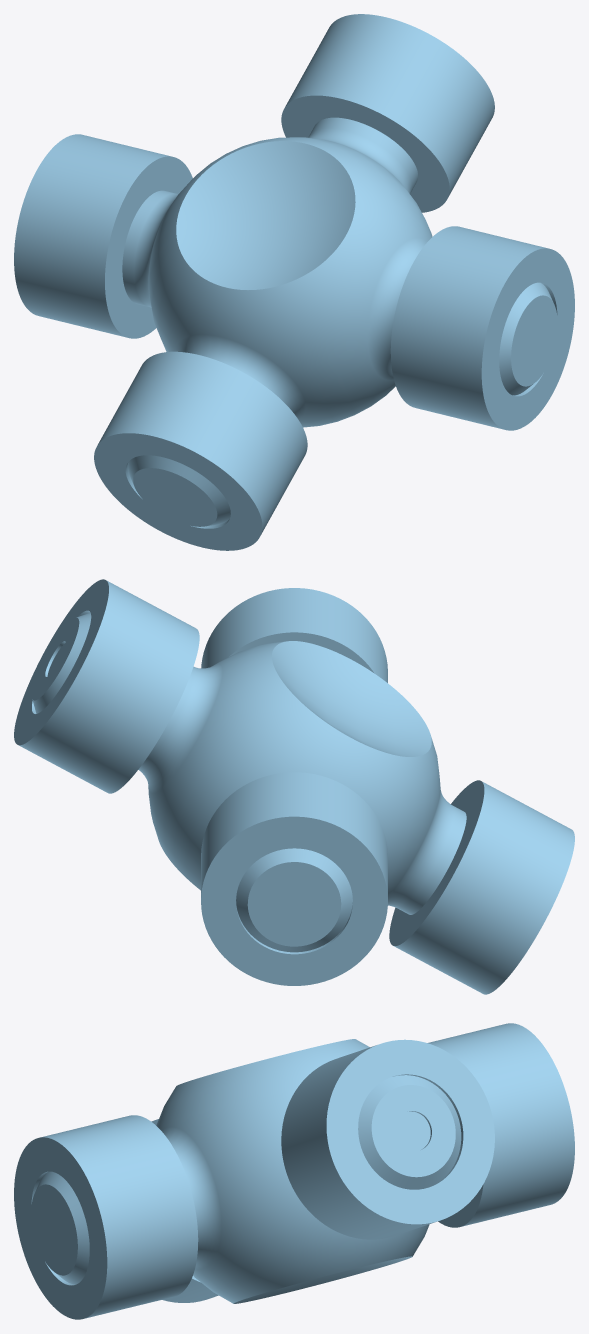
Rendered from croisillion_haut2.dae.
3 views of the same model, one above another, from view 1: azimuth 30°, elevation 25°; view 2: azimuth 150°, elevation 25°; view 3: azimuth 270°, elevation 25° (orthographic).
Visible parts, largest first — view 1: C0001_0001-2_Croisillon_9; view 2: C0001_0001-2_Croisillon_9; view 3: C0001_0001-2_Croisillon_9.
Boxes of the visible parts, x1,y1,x2,y2 form: C0001_0001-2_Croisillon_9: (14, 14, 574, 550); C0001_0001-2_Croisillon_9: (14, 579, 574, 994); C0001_0001-2_Croisillon_9: (14, 1023, 574, 1319).
Size of the model in its own units: 0.0904 by 0.0962 by 0.0746.
